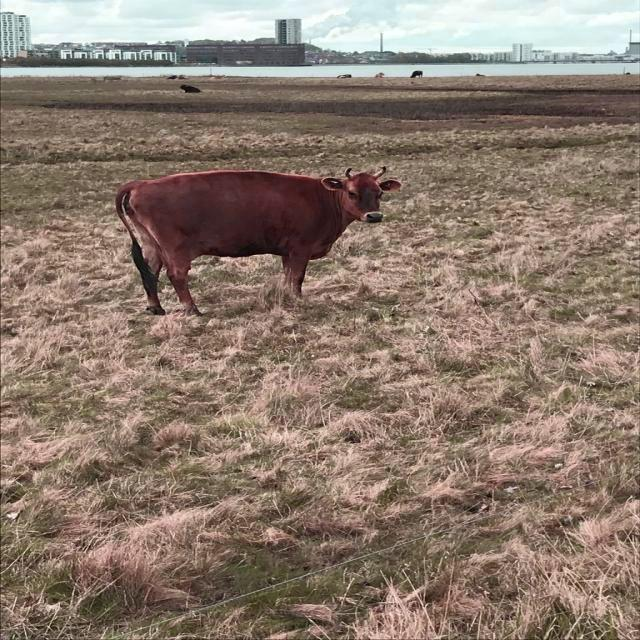cow: (116, 169, 401, 314)
